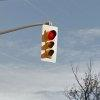Traffic light: (32, 15, 60, 66)
